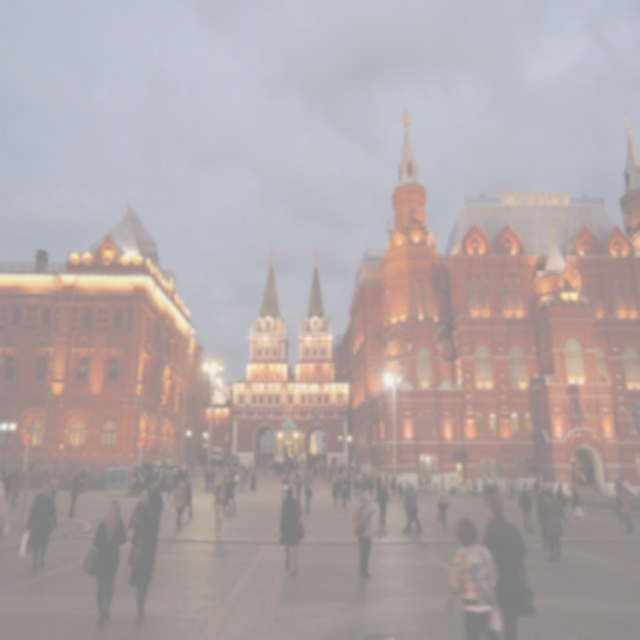pessoa: (446, 518, 504, 640), (482, 494, 530, 640), (80, 500, 128, 628), (126, 502, 160, 626), (24, 482, 59, 571), (277, 484, 306, 576), (352, 492, 377, 578), (543, 490, 565, 563), (401, 484, 424, 536), (127, 489, 151, 534), (403, 484, 423, 534), (147, 481, 164, 538), (170, 479, 187, 532), (212, 477, 226, 536), (68, 470, 84, 520), (518, 484, 534, 534), (618, 486, 634, 534), (180, 476, 196, 520), (376, 479, 390, 526), (436, 482, 450, 529), (556, 483, 570, 527), (0, 479, 8, 542), (222, 476, 236, 512), (570, 488, 584, 522), (8, 470, 20, 507), (222, 474, 232, 514), (154, 460, 184, 473), (134, 466, 146, 494), (0, 470, 10, 502), (616, 487, 624, 524), (50, 472, 60, 500), (622, 478, 632, 504), (534, 485, 540, 526), (340, 482, 348, 511), (307, 452, 326, 464), (344, 474, 352, 502), (167, 472, 174, 502), (294, 476, 302, 502), (614, 479, 622, 504), (416, 472, 425, 493), (367, 474, 375, 496), (375, 472, 383, 494), (508, 478, 516, 500), (239, 468, 246, 493), (332, 478, 338, 507), (203, 468, 210, 492), (5, 471, 11, 498), (482, 481, 488, 508), (233, 470, 240, 493), (209, 466, 215, 492), (362, 472, 368, 498), (398, 481, 404, 507), (288, 456, 301, 468), (79, 466, 86, 488), (390, 474, 397, 496), (353, 475, 359, 498), (250, 472, 256, 494), (472, 477, 478, 499), (282, 475, 289, 493), (427, 474, 433, 495), (160, 470, 167, 488), (466, 476, 472, 496), (338, 475, 343, 498), (308, 472, 314, 491), (327, 465, 333, 484), (472, 478, 478, 497), (618, 478, 624, 497), (10, 468, 14, 496), (244, 466, 250, 484), (423, 472, 428, 493), (336, 474, 340, 500), (532, 478, 538, 495), (176, 467, 181, 487), (349, 470, 354, 490), (385, 470, 390, 490), (260, 452, 274, 459), (218, 456, 224, 472), (294, 466, 300, 482), (622, 480, 628, 496), (358, 478, 363, 497), (492, 480, 499, 493), (312, 458, 317, 476), (451, 476, 456, 494), (403, 479, 408, 496), (43, 472, 50, 484), (152, 468, 158, 482), (491, 482, 498, 494), (228, 465, 234, 478), (578, 469, 584, 482), (273, 460, 278, 475), (277, 461, 282, 476), (187, 465, 193, 477), (264, 456, 268, 474), (298, 468, 304, 480), (229, 468, 234, 482), (427, 473, 430, 495), (232, 466, 235, 488), (284, 466, 289, 479), (192, 460, 196, 476), (248, 458, 252, 473), (276, 458, 280, 473), (303, 470, 309, 480), (281, 462, 285, 476), (294, 452, 298, 466), (322, 466, 326, 480), (356, 463, 362, 472), (450, 476, 453, 494), (245, 466, 248, 484), (281, 459, 285, 472), (304, 476, 308, 489), (322, 461, 326, 474), (333, 455, 337, 468), (343, 472, 348, 482), (240, 464, 246, 472), (292, 472, 296, 484), (342, 458, 346, 470), (317, 461, 320, 476), (249, 458, 252, 473), (486, 482, 492, 489), (541, 485, 547, 492), (304, 462, 308, 472), (484, 476, 488, 486), (180, 464, 184, 474), (351, 460, 354, 473), (296, 459, 299, 471), (298, 472, 302, 481), (331, 456, 334, 468), (281, 473, 284, 484), (180, 468, 184, 476), (286, 452, 290, 460), (266, 459, 269, 469), (182, 462, 186, 469), (290, 460, 292, 474), (358, 470, 360, 483), (112, 462, 116, 468), (302, 458, 304, 468), (362, 472, 365, 478), (298, 461, 300, 469), (548, 486, 552, 490), (190, 462, 192, 469), (236, 466, 238, 472), (292, 458, 294, 464), (472, 476, 475, 480)
